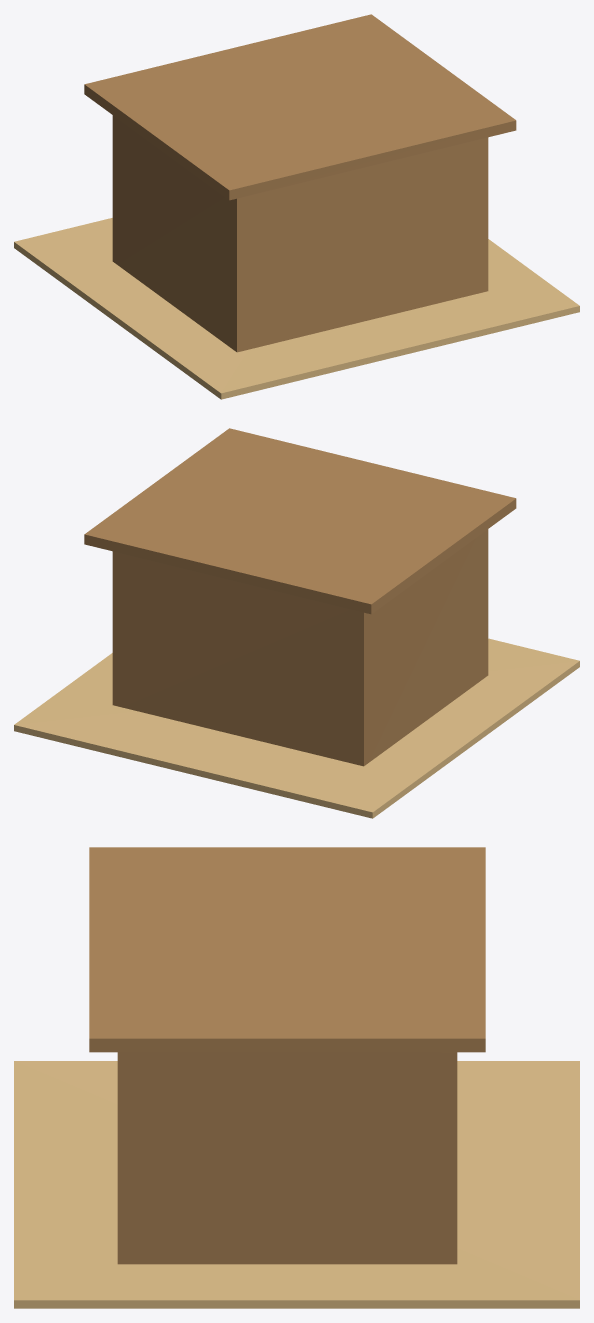
The model's file is Insulated-barn.glb.
3 views of the same model, one above another, from view 1: azimuth 30°, elevation 25°; view 2: azimuth 150°, elevation 25°; view 3: azimuth 270°, elevation 25° (orthographic). The views are drawn at different scales.
Visible parts, largest first — view 1: insulated-barn-static-insulated-barn-wall, insulated-barn-static-insulated-barn-teal, insulated-barn-static-insulated-barn-earth; view 2: insulated-barn-static-insulated-barn-wall, insulated-barn-static-insulated-barn-teal, insulated-barn-static-insulated-barn-earth; view 3: insulated-barn-static-insulated-barn-teal, insulated-barn-static-insulated-barn-wall, insulated-barn-static-insulated-barn-earth.
Boxes of the visible parts, x1,y1,x2,y2 form: insulated-barn-static-insulated-barn-wall: (112,115,488,352); insulated-barn-static-insulated-barn-teal: (84,14,516,200); insulated-barn-static-insulated-barn-earth: (14,218,579,399); insulated-barn-static-insulated-barn-wall: (112,529,488,766); insulated-barn-static-insulated-barn-teal: (84,428,516,614); insulated-barn-static-insulated-barn-earth: (14,638,579,818); insulated-barn-static-insulated-barn-teal: (89,847,485,1052); insulated-barn-static-insulated-barn-wall: (117,1052,457,1264); insulated-barn-static-insulated-barn-earth: (14,1061,579,1308).
Bounding box in the file's own units: 6 × 2.88 × 6.
